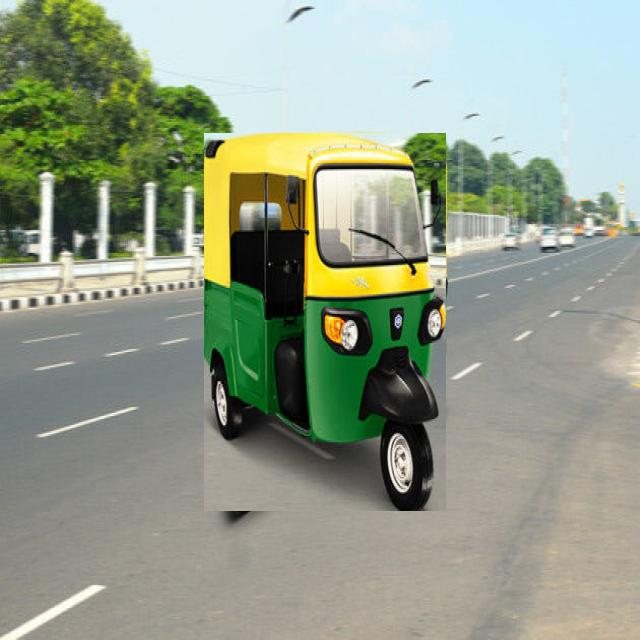autorickshaw: (204, 133, 446, 511)
